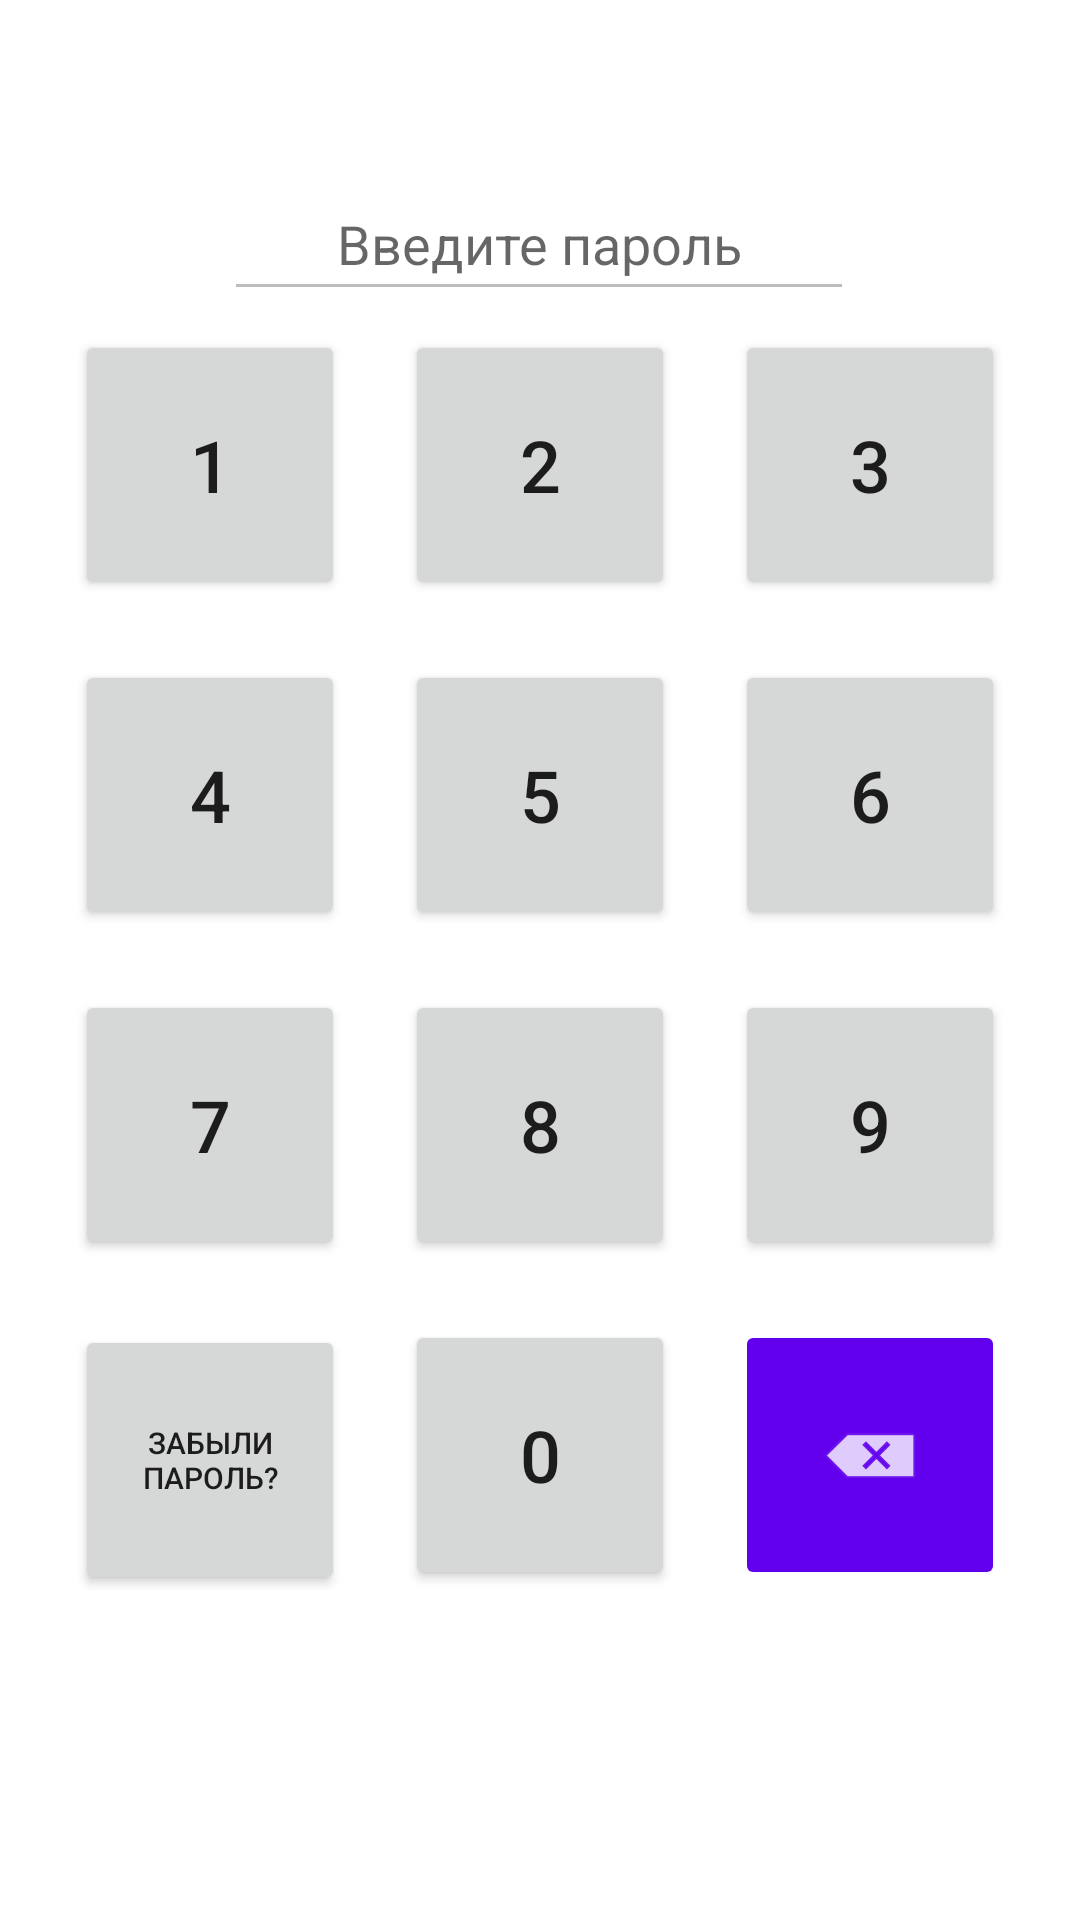

Screen size 1080x1920. Icon name, then its box in pixels as (x1, y1, x2, y2):
delete: (747, 1338, 993, 1572)
